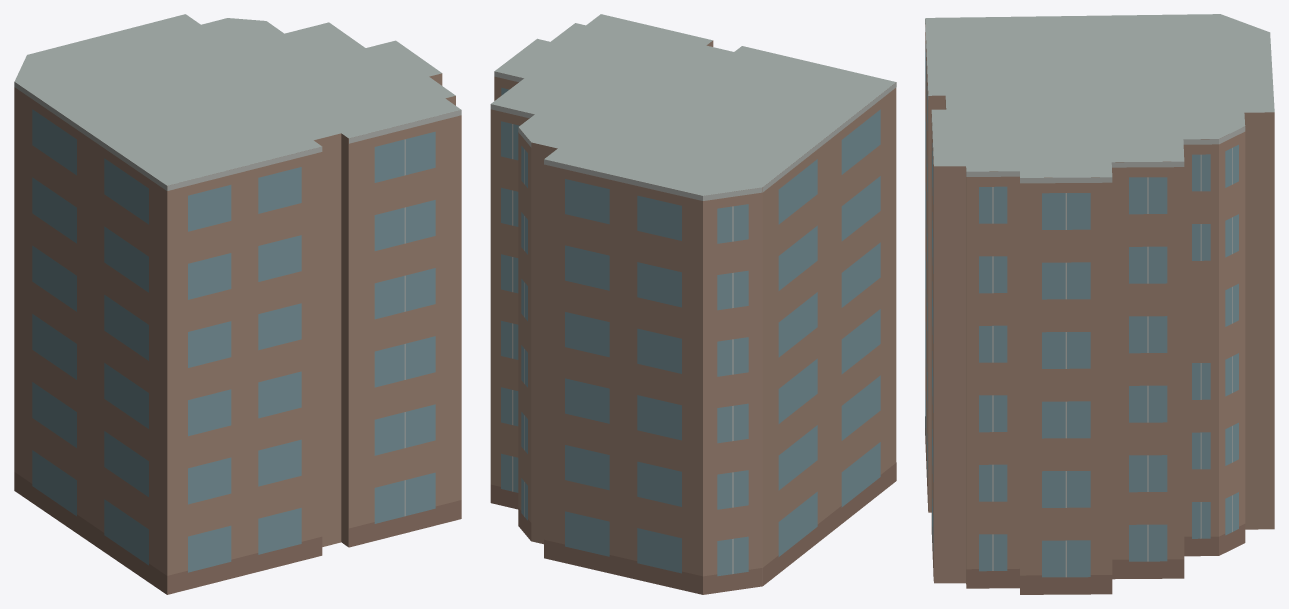
The model's file is survey-upis-32748141.glb.
The picture shows the model from 3 angles, left to right: view 1: azimuth 30°, elevation 25°; view 2: azimuth 150°, elevation 25°; view 3: azimuth 270°, elevation 25°; orthographic projection. The views are drawn at different scales.
Visible parts, largest first — view 1: survey-upis-32748141.tmp; view 2: survey-upis-32748141.tmp; view 3: survey-upis-32748141.tmp.
Boxes of the visible parts, bbox=[...] form: survey-upis-32748141.tmp: bbox=[14, 14, 461, 594]; survey-upis-32748141.tmp: bbox=[490, 14, 896, 594]; survey-upis-32748141.tmp: bbox=[925, 14, 1274, 594].
Size of the model in its own units: 15.78 by 18.7 by 14.22.
